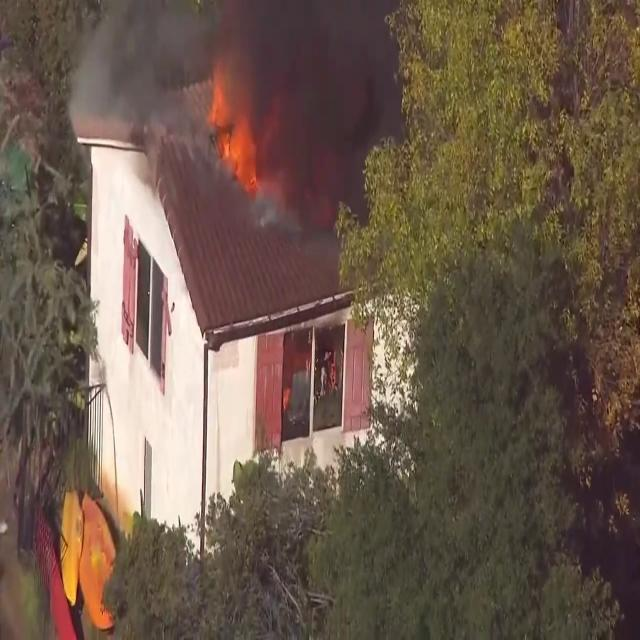Fire: (203, 53, 261, 191)
Smoke: (70, 0, 380, 214)
